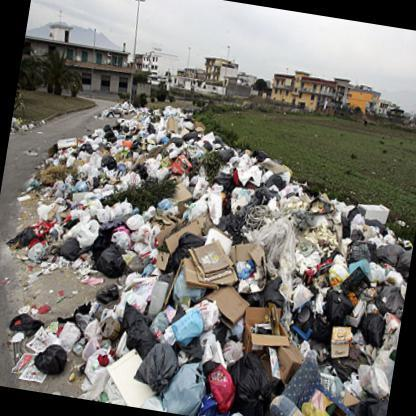Garbage: (114, 175, 359, 415), (124, 161, 294, 371), (0, 275, 218, 415), (43, 101, 185, 296), (274, 219, 402, 410), (16, 126, 153, 296)
